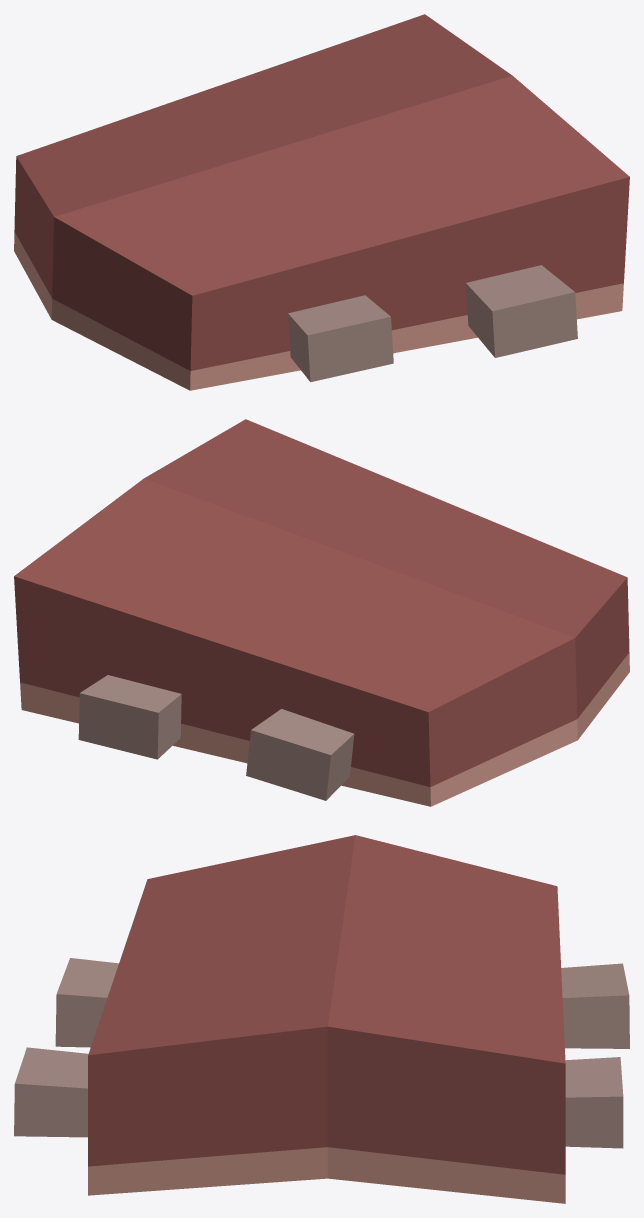
File: porkRibCut03.fbx
3 renders of one model, top to bottom at view 1: azimuth 30°, elevation 25°; view 2: azimuth 150°, elevation 25°; view 3: azimuth 270°, elevation 25°, orthographic. The views are drawn at different scales.
Parts seen in each view (by area): view 1: porkRibCut03; view 2: porkRibCut03; view 3: porkRibCut03.
Part boxes in pixels (x1,y1,x2,y2): porkRibCut03: [14, 14, 629, 390]; porkRibCut03: [14, 419, 629, 806]; porkRibCut03: [14, 835, 629, 1203].
Bounding box in the file's own units: 19.3 × 6.15 × 20.1.
1 material, 1 textured.
